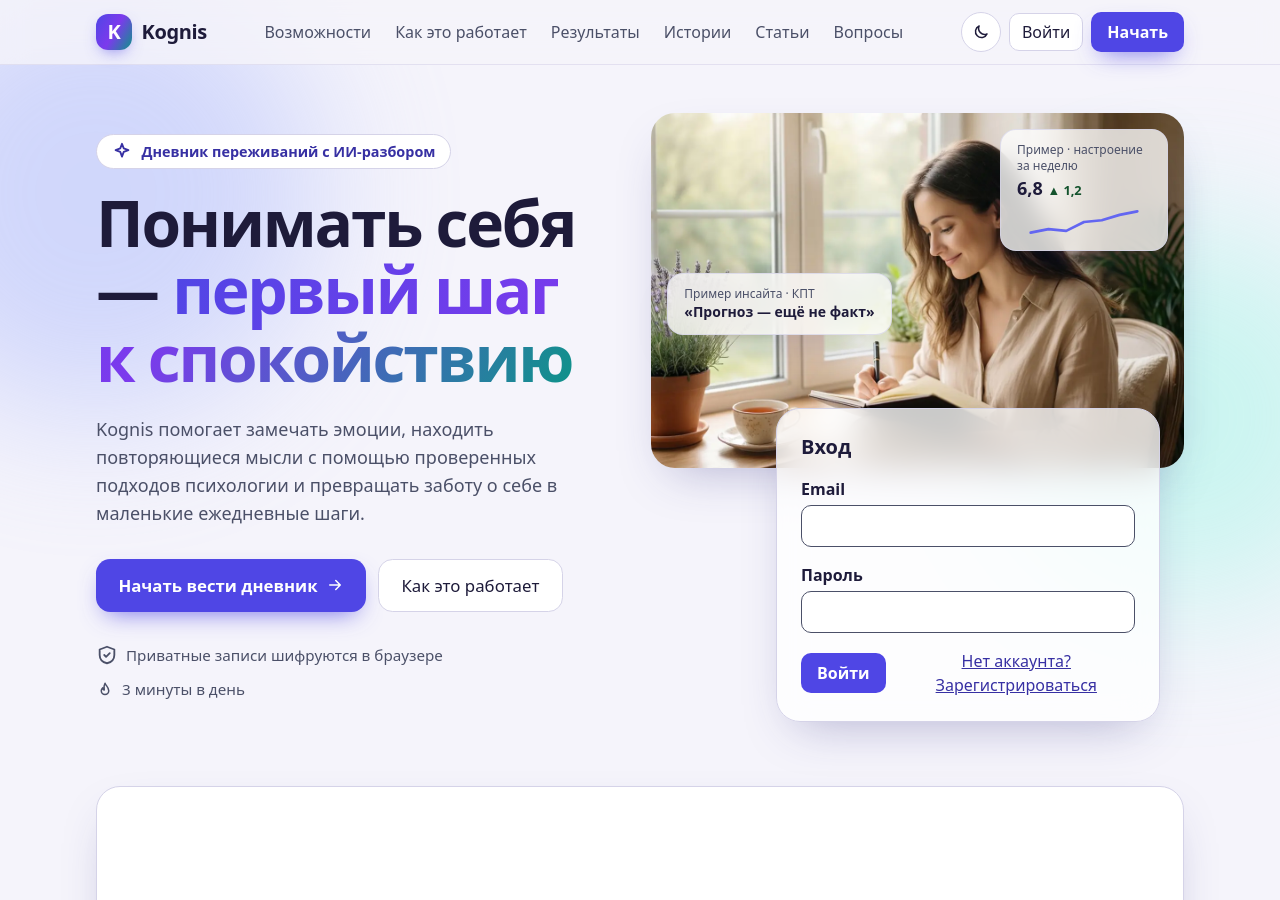
it: кнопки «Начать» переключают форму на регистрацию
Click the button with test id "cta-hero".
click(231, 585)  # box [96,559,366,612]
(page scrolled)
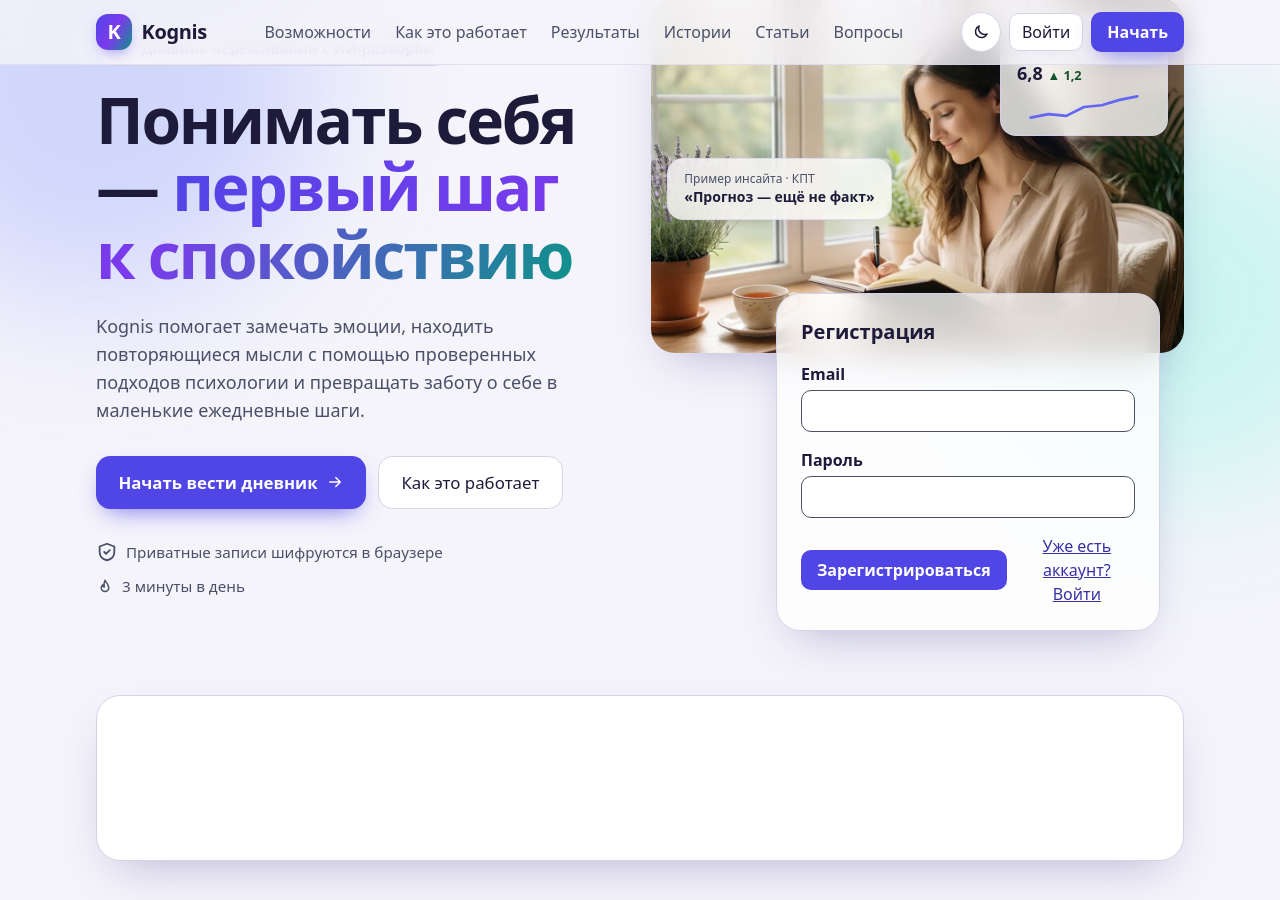
Check: the heading "Регистрация" is shown, box [801,318,936,345]
Click the button "Уже есть аккаунт? Войти".
click(1077, 570)  # box [1019,534,1135,606]
(page scrolled)
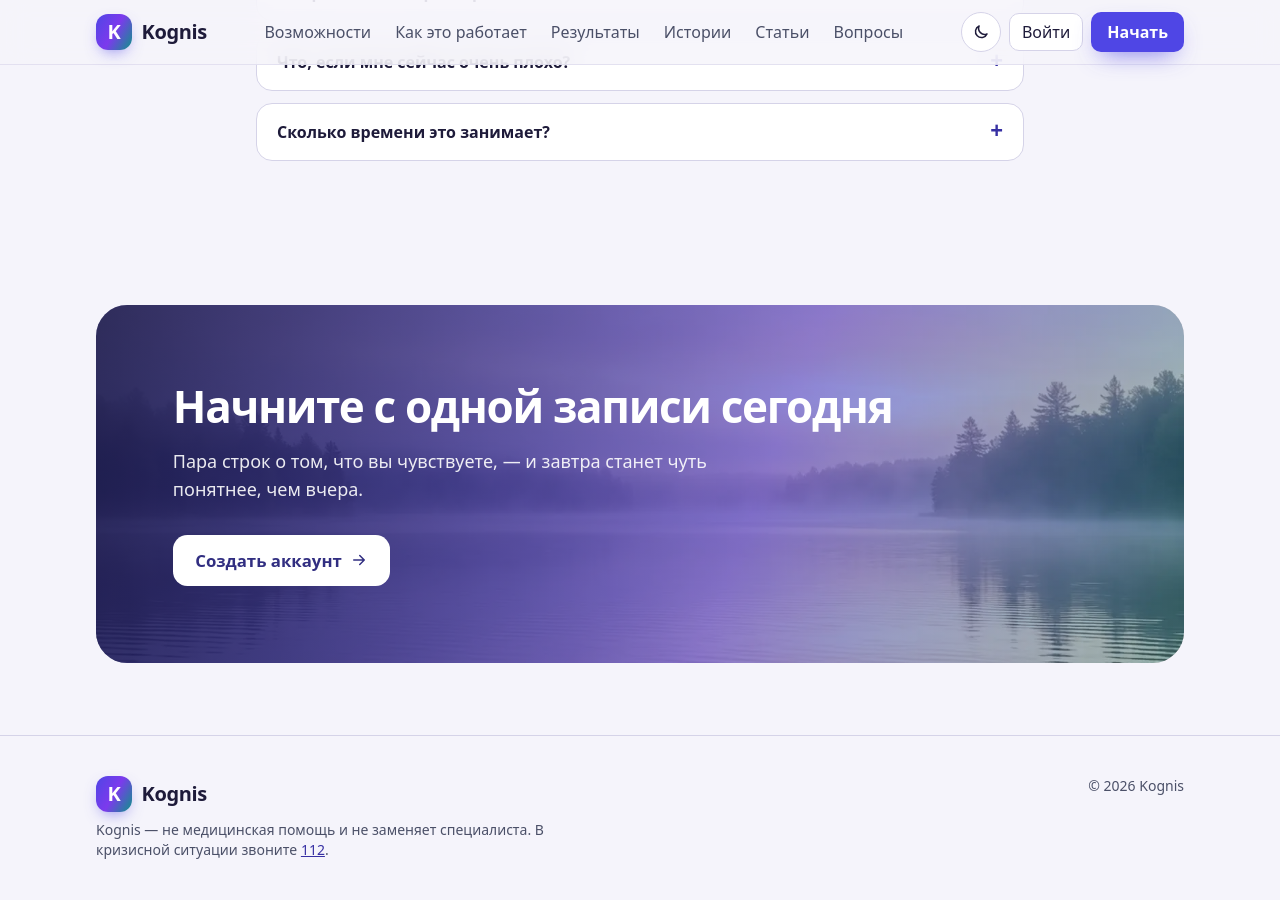
Click the button with test id "cta-final".
click(282, 560)  # box [173,535,390,586]
(page scrolled)
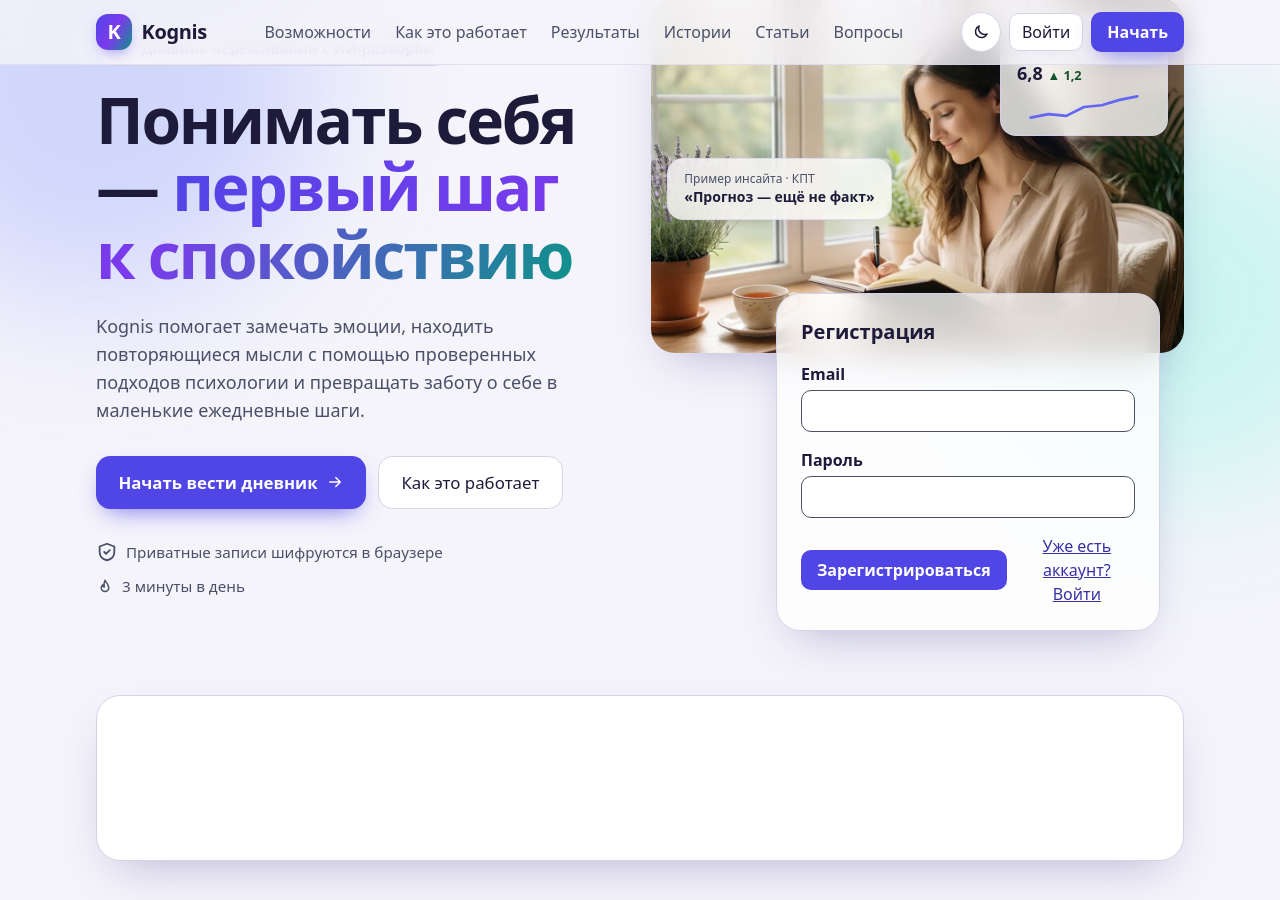
Check: the heading "Регистрация" is shown, box [801,318,936,345]
Click the button "Войти".
click(1046, 32)  # box [1009,13,1083,51]
(page scrolled)
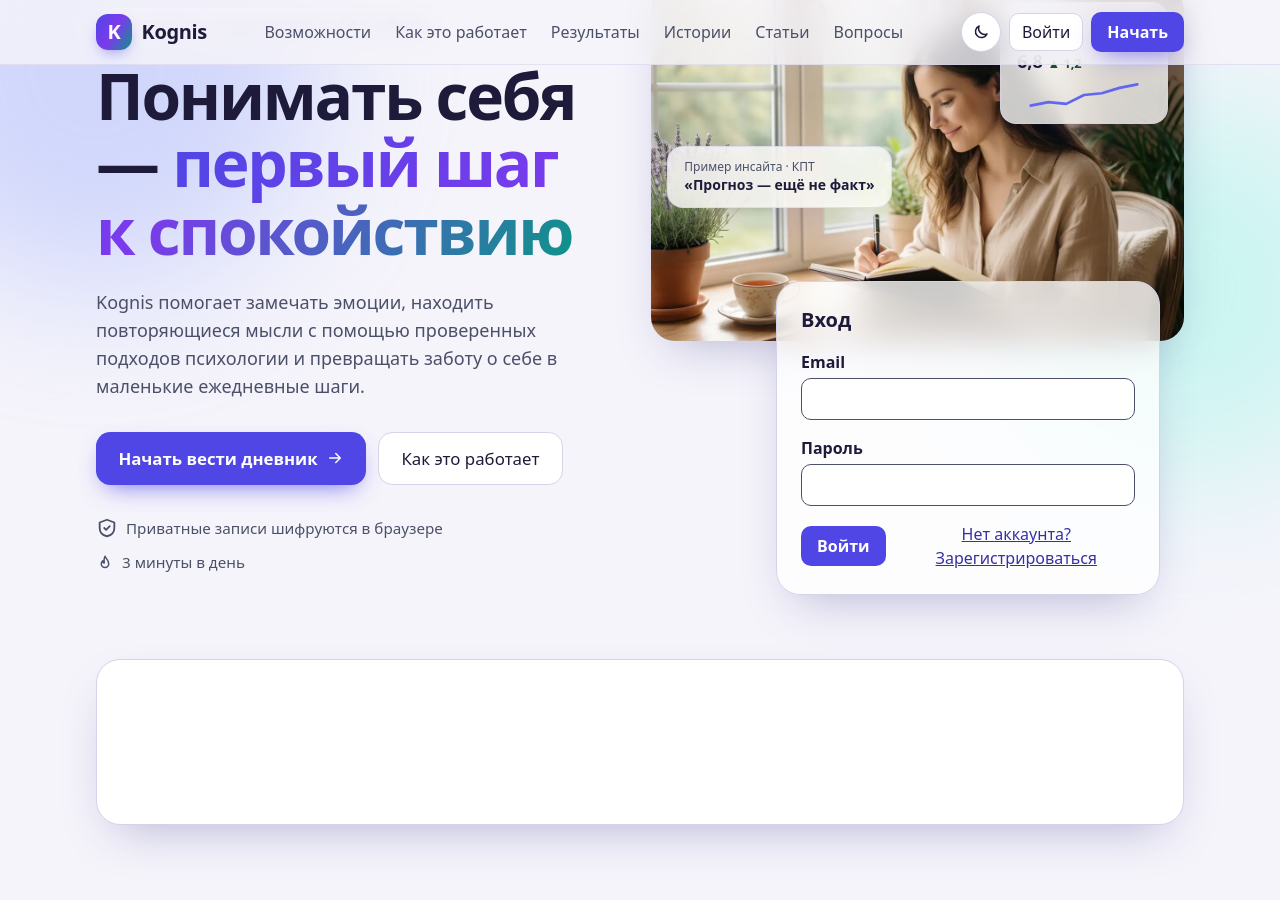
Check: the heading "Вход" is shown, box [801,306,851,333]
Click the button with test id "cta-header".
click(1138, 32)  # box [1091,12,1184,52]
(page scrolled)
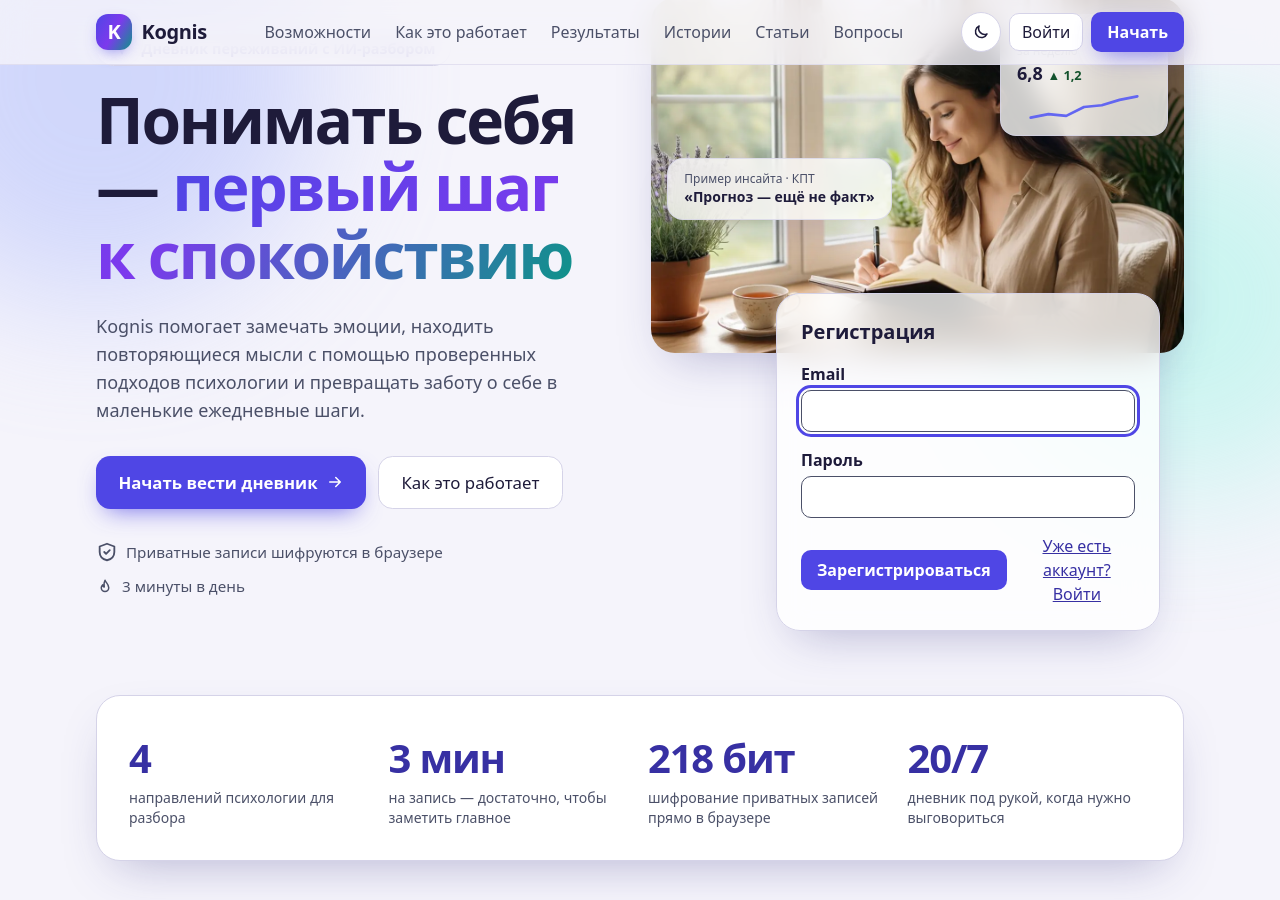
Check: the heading "Регистрация" is shown, box [801,318,936,345]
